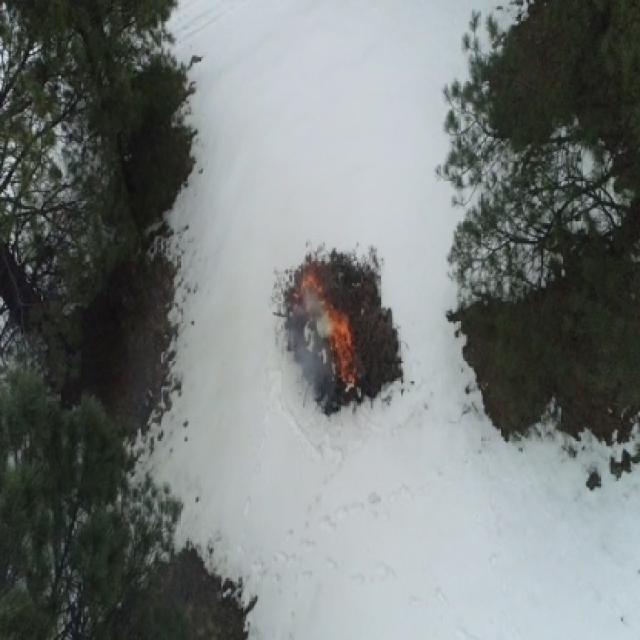Fire: (337, 318, 354, 382), (331, 311, 351, 347), (321, 288, 332, 306), (301, 272, 314, 287)
